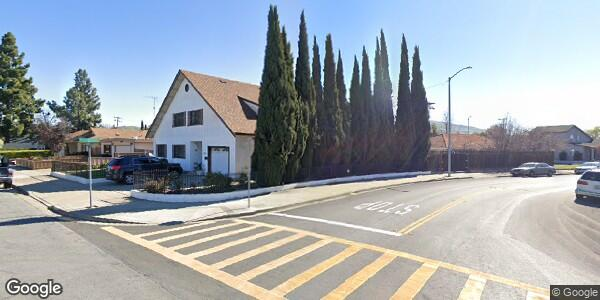Steel_Pole: (445, 64, 474, 180)
